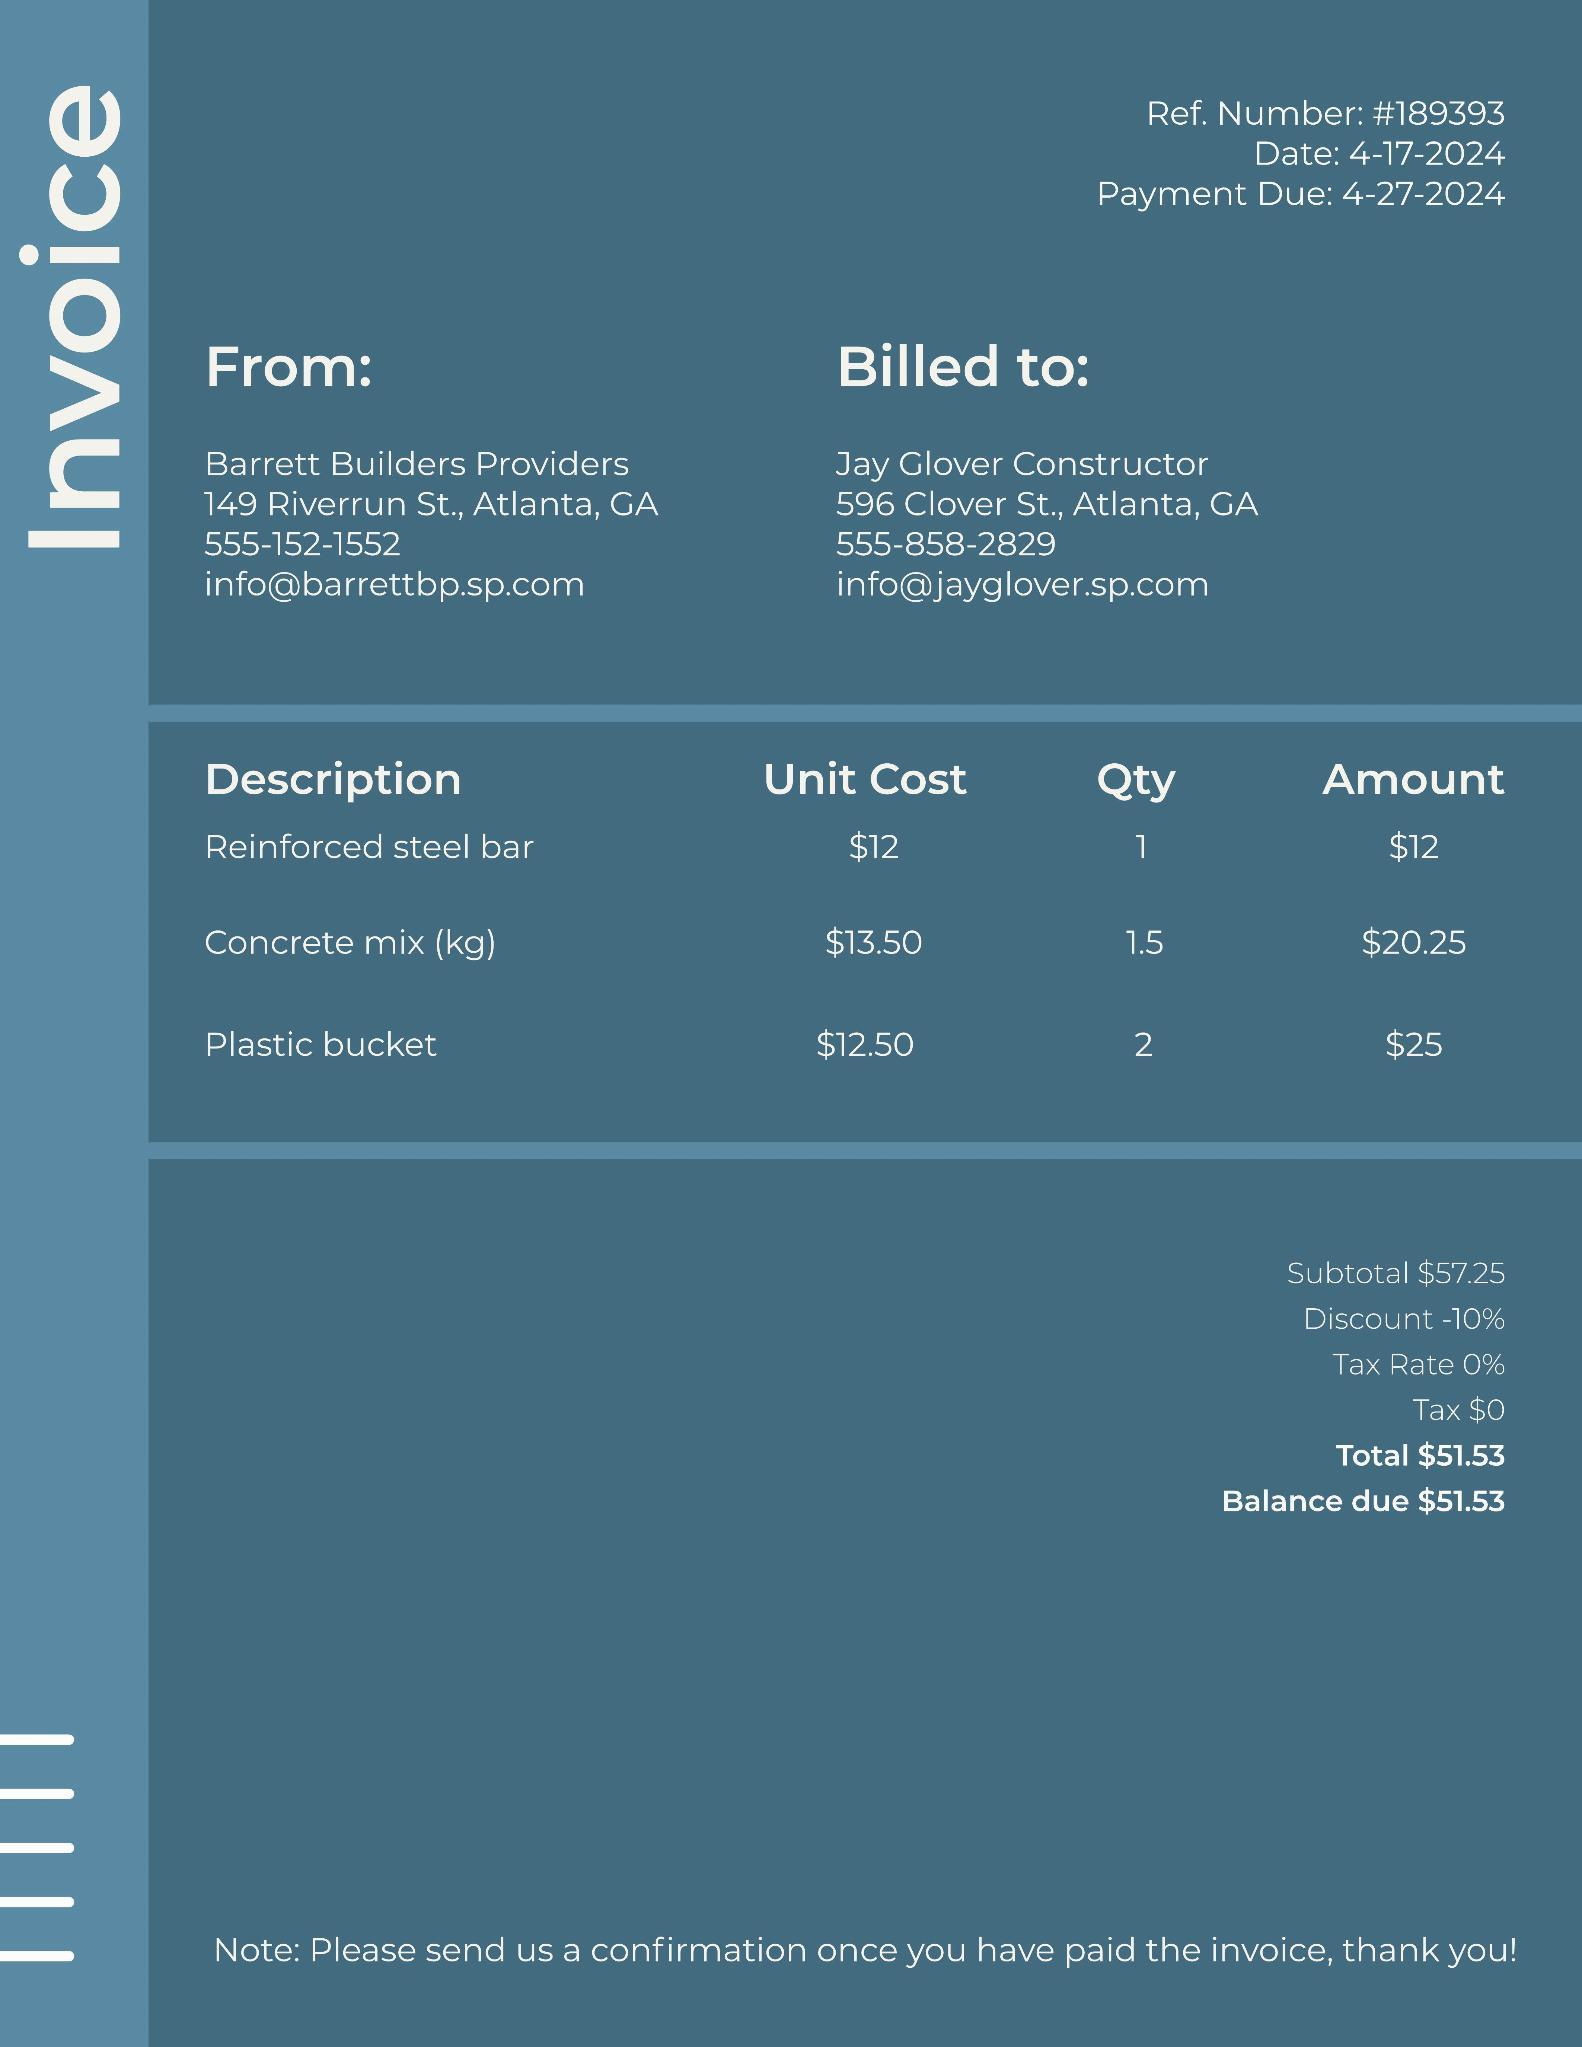ROI: (151, 724, 1582, 1145), (206, 1912, 1554, 1999), (818, 435, 1408, 621), (1178, 1253, 1521, 1525), (189, 440, 660, 631), (10, 56, 146, 557), (1097, 91, 1512, 219), (838, 337, 1108, 404), (204, 342, 381, 399)
